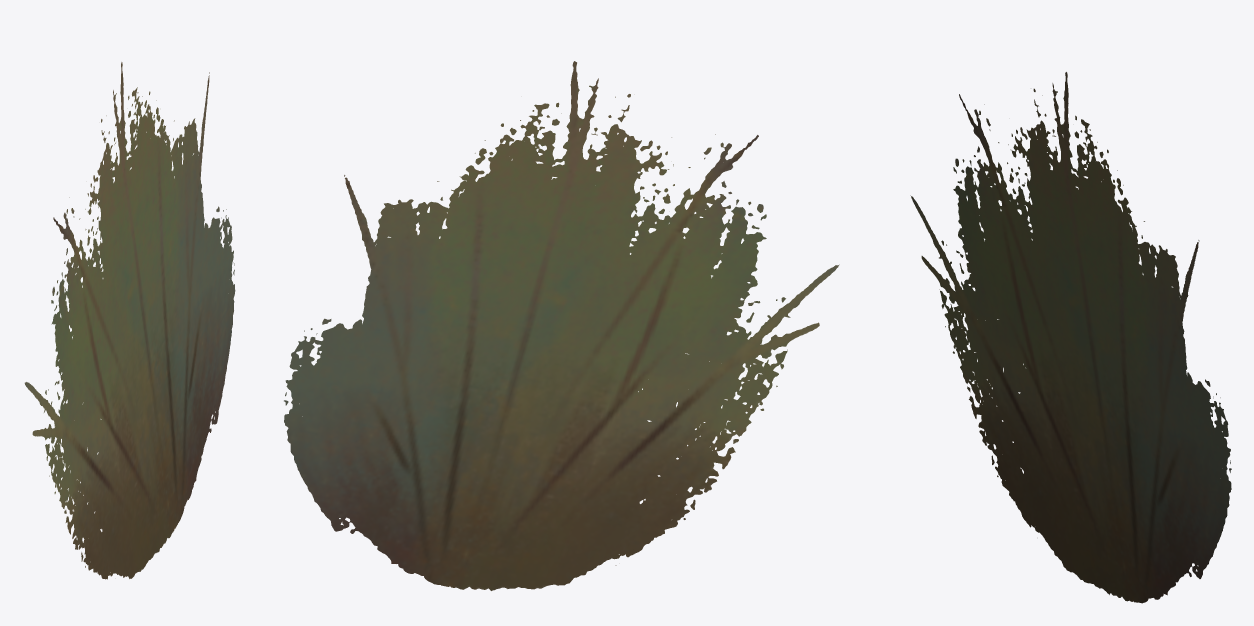
Rendered from bush2.fbx.
The picture shows the model from 3 angles, left to right: view 1: azimuth 30°, elevation 25°; view 2: azimuth 150°, elevation 25°; view 3: azimuth 270°, elevation 25°; orthographic projection. The views are drawn at different scales.
Parts seen in each view (by area): view 1: bush2; view 2: bush2; view 3: bush2.
Part boxes in pixels (x1,y1,x2,y2): bush2: [24, 62, 235, 579]; bush2: [284, 61, 839, 590]; bush2: [910, 72, 1231, 603].
Size of the model in its own units: 168 by 233 by 129.
